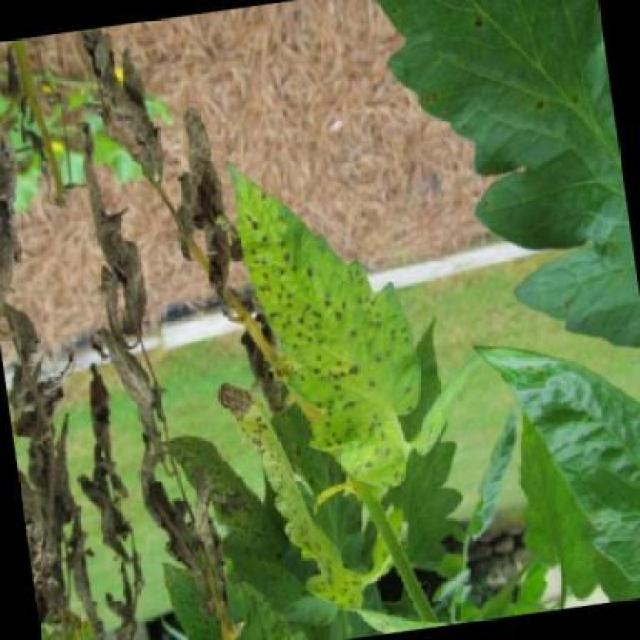Tomato leaf bacterial spot: (229, 144, 422, 496)
